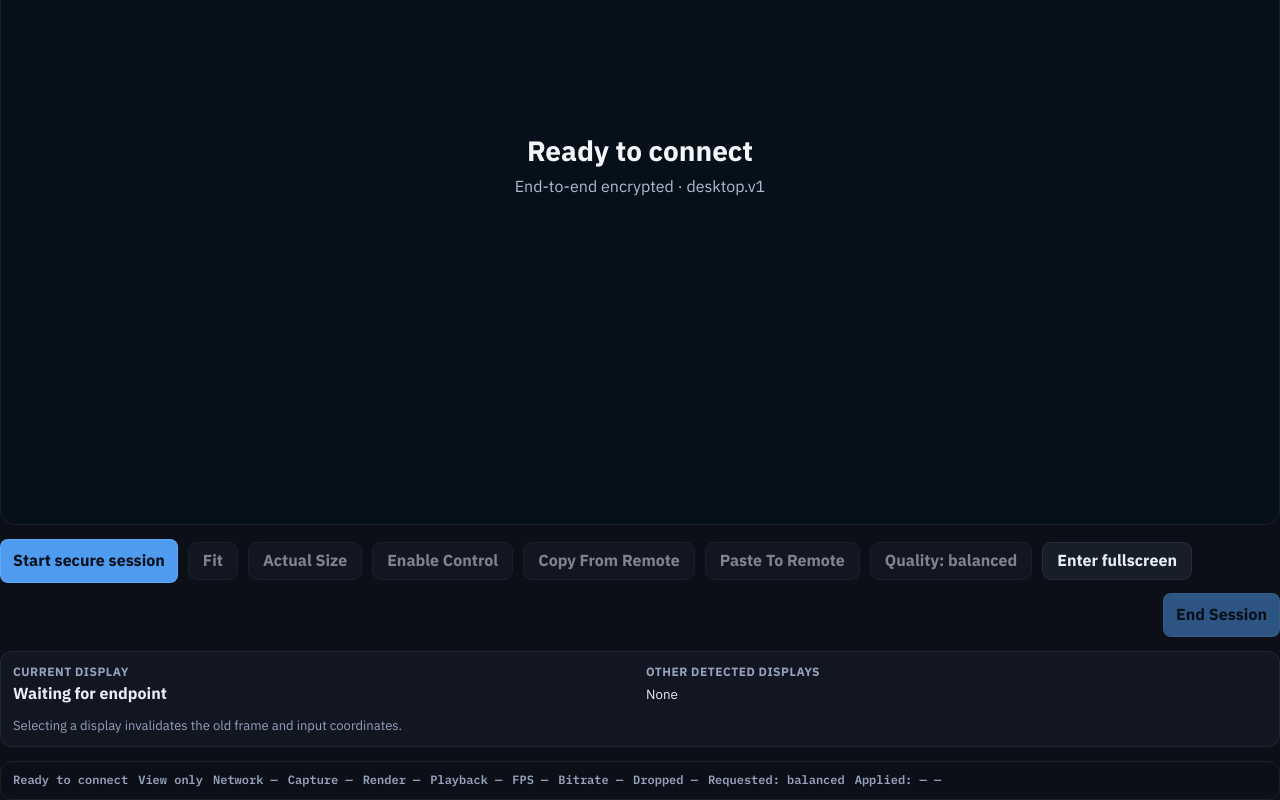
Test case: DesktopViewerPage › keeps the session recoverable when the viewer page is hidden
(page scrolled)
Click the button "Start secure session". click: coordinates (89, 561)
box: [0,539,178,583]
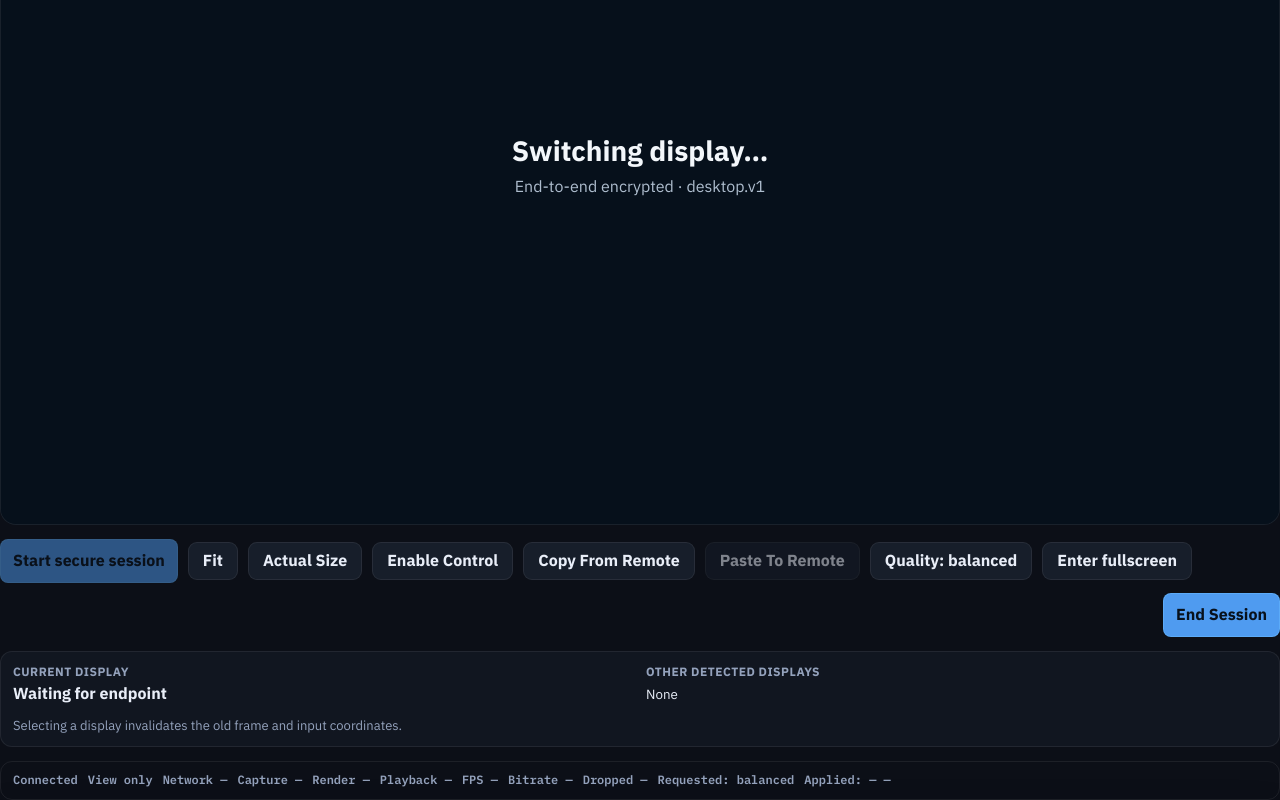
Expected: the message shows "Connected", [13,772,78,787]
